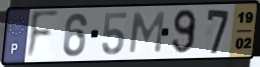5: (100, 11, 128, 57)
6: (61, 12, 90, 59)
7: (206, 7, 231, 55)
9: (171, 8, 199, 57)
F: (24, 9, 60, 63)
M: (126, 11, 167, 55)
